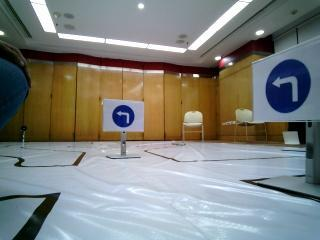left: (255, 54, 320, 114), (104, 98, 146, 128)
